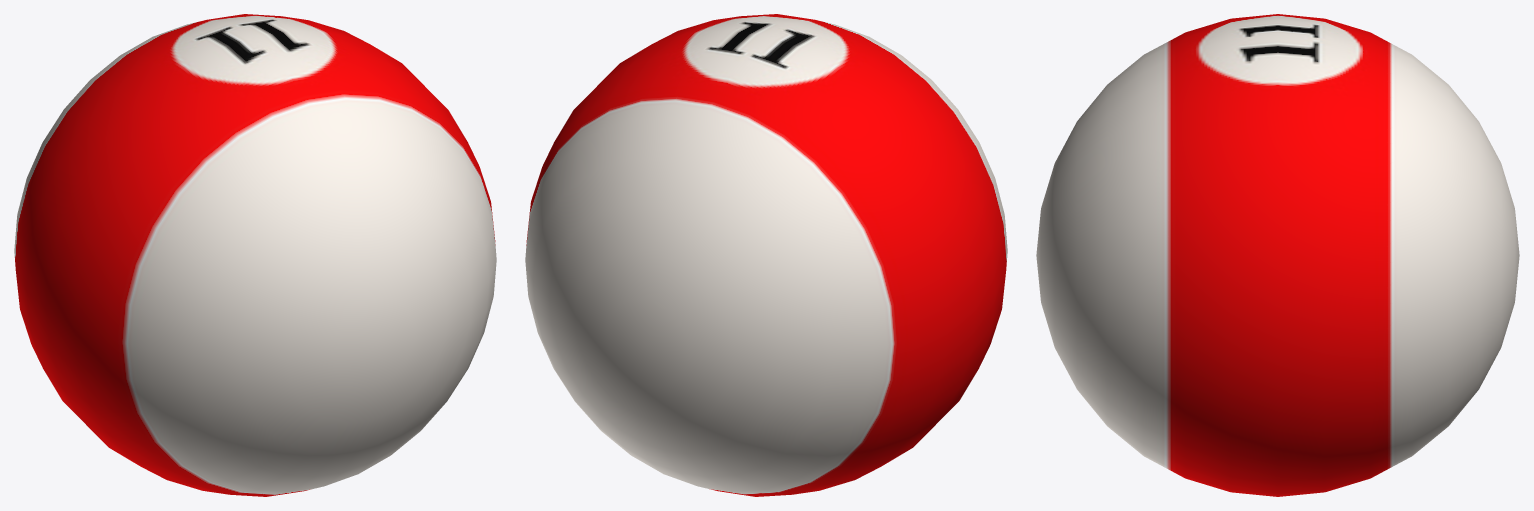
File: Billiard Ball 11.glb
3 renders of one model, left to right at view 1: azimuth 30°, elevation 25°; view 2: azimuth 150°, elevation 25°; view 3: azimuth 270°, elevation 25°, orthographic.
Visible parts, largest first — view 1: Ball11_20 - Default_0; view 2: Ball11_20 - Default_0; view 3: Ball11_20 - Default_0.
Boxes of the visible parts, <box> form: Ball11_20 - Default_0: <box>14,14,496,496</box>; Ball11_20 - Default_0: <box>525,14,1007,496</box>; Ball11_20 - Default_0: <box>1036,14,1519,496</box>.
Size of the model in its own units: 37.86 by 37.86 by 37.86.
1 material, 1 textured.
